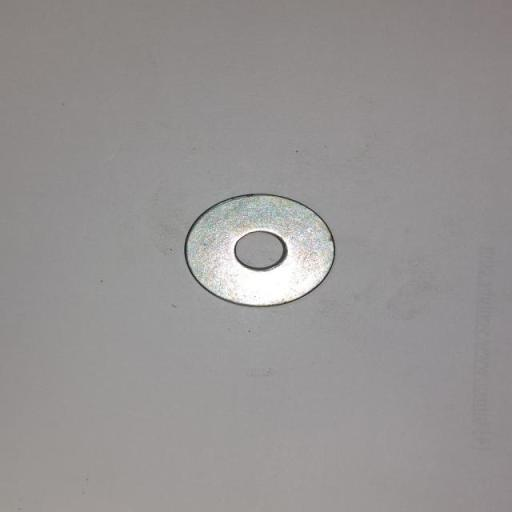Washer: (184, 193, 336, 309)
